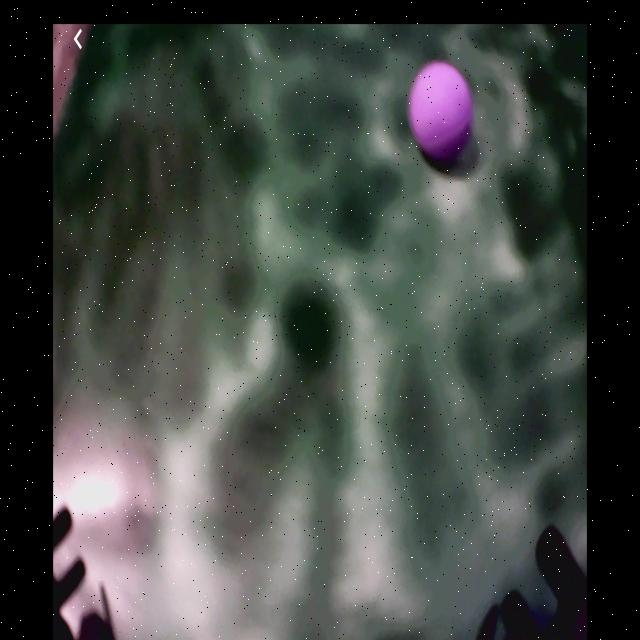ball: (410, 63, 475, 162)
